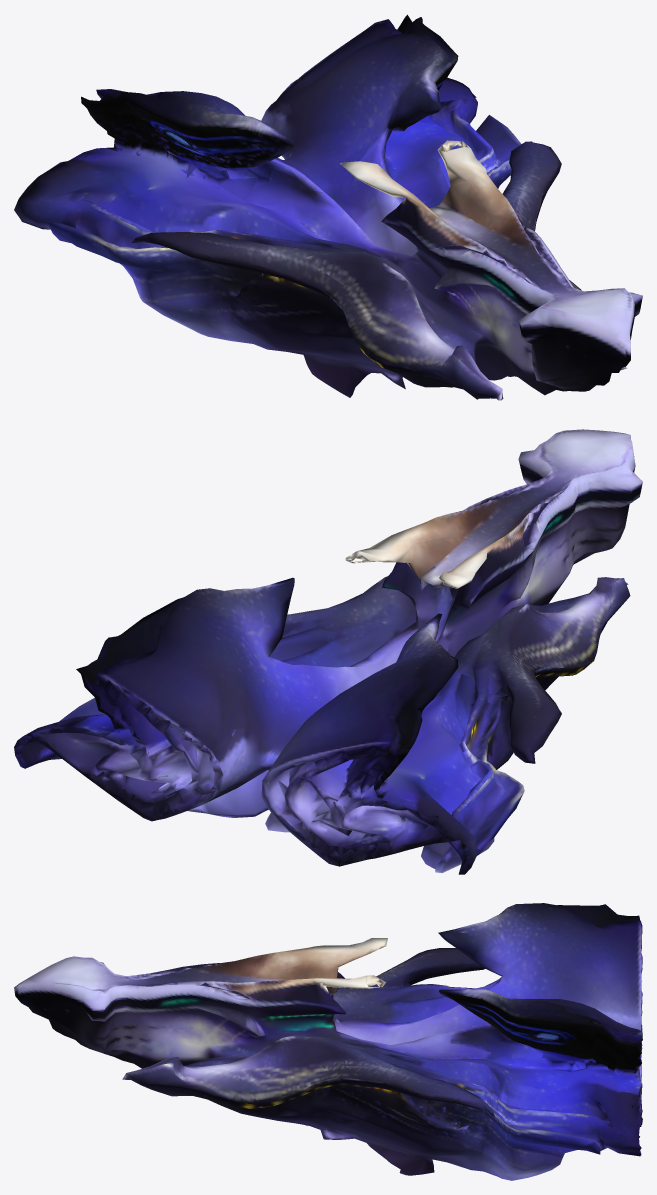
The model's file is legion_carrier_tripo_desktop.glb.
3 renders of one model, top to bottom at view 1: azimuth 30°, elevation 25°; view 2: azimuth 150°, elevation 25°; view 3: azimuth 270°, elevation 25°, orthographic. The views are drawn at different scales.
Parts seen in each view (by area): view 1: Legion_Carrier; view 2: Legion_Carrier; view 3: Legion_Carrier.
Part boxes in pixels (x1,y1,x2,y2): Legion_Carrier: (14, 14, 642, 400); Legion_Carrier: (14, 429, 642, 874); Legion_Carrier: (14, 903, 642, 1180).
Size of the model in its own units: 19.08 by 10.35 by 28.14.
Materials: 1 (1 with a texture image).
